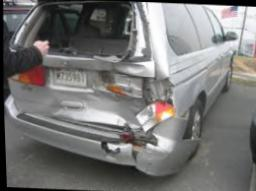Dickey: (11, 1, 156, 129)
Light: (100, 70, 164, 95)
Windshield: (15, 1, 131, 59)
